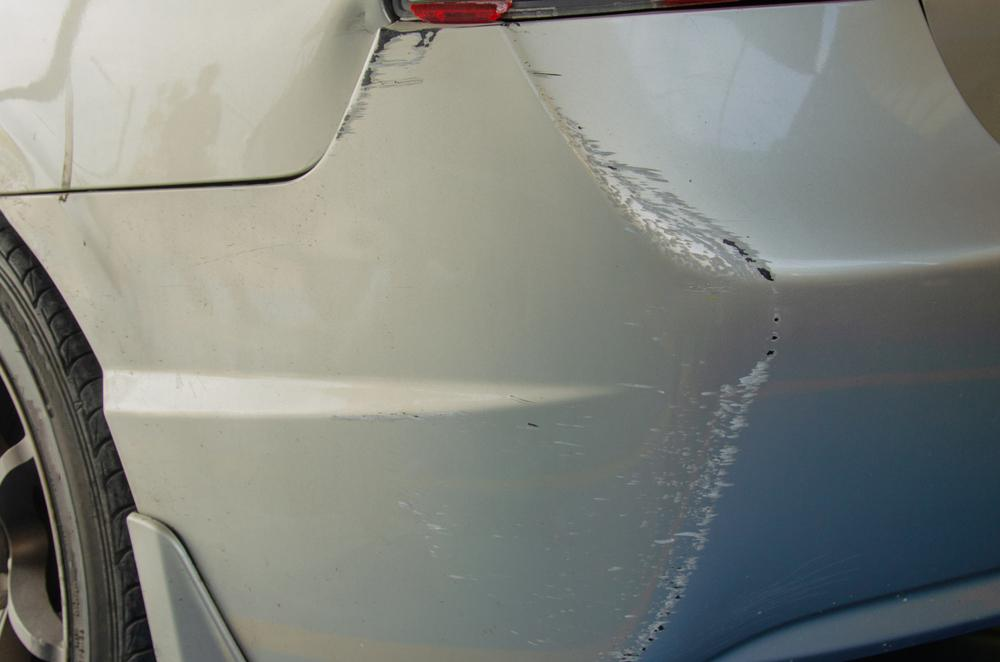scratch: (404, 70, 788, 662), (337, 27, 440, 141)
